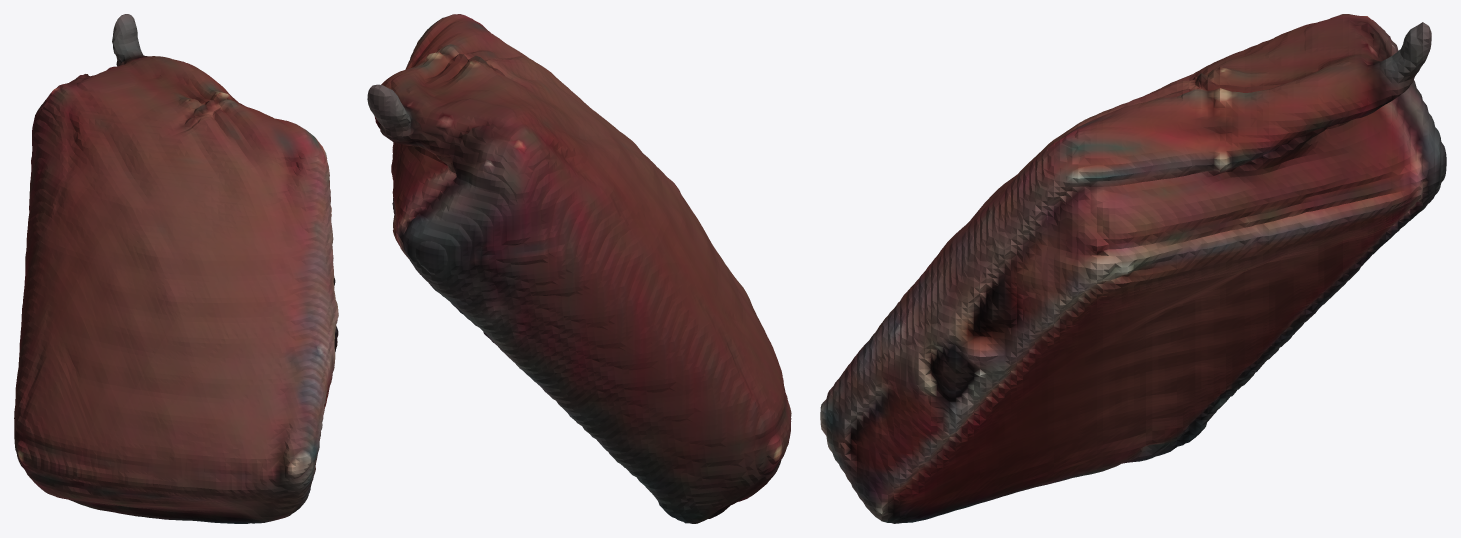
3 renders of one model, left to right at view 1: azimuth 30°, elevation 25°; view 2: azimuth 150°, elevation 25°; view 3: azimuth 270°, elevation 25°, orthographic. The views are drawn at different scales.
Size of the model in its own units: 0.5515 by 0.6617 by 0.6948.
